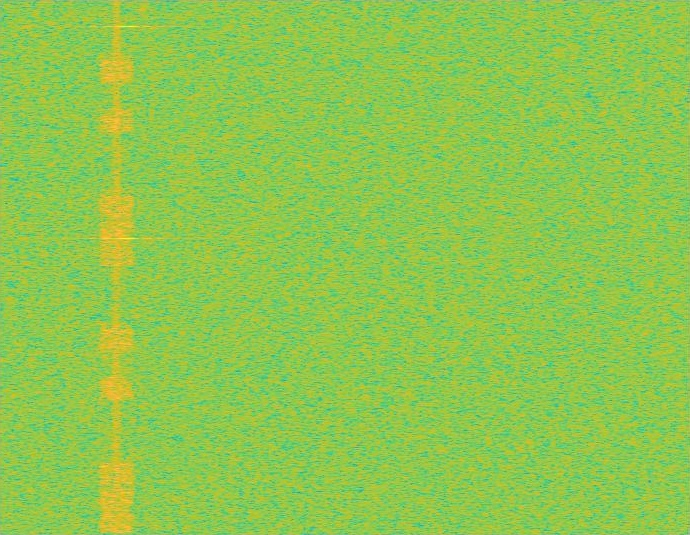DSSS: (113, 0, 120, 534)
LTE: (99, 0, 134, 534)
Radar: (120, 0, 134, 534)
